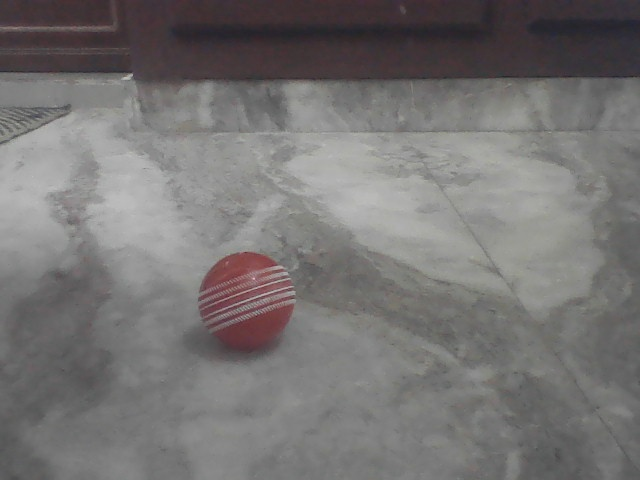cricket_ball: (193, 248, 304, 352)
